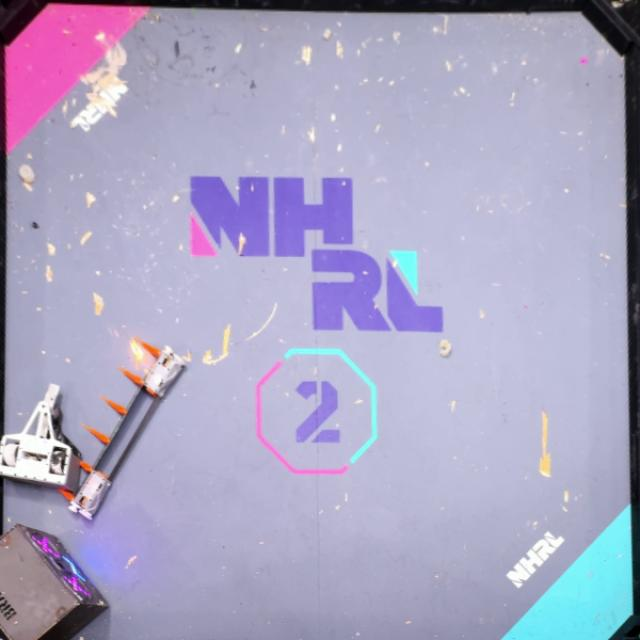housebot: (0, 521, 112, 640)
robot: (54, 338, 192, 524), (0, 380, 81, 494)
